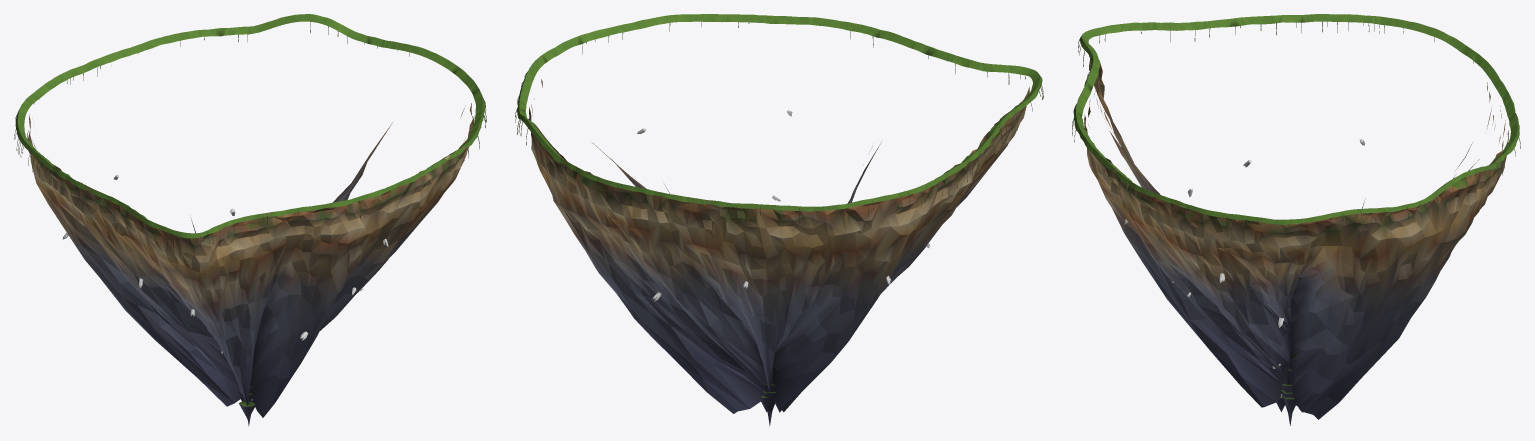
The model's file is IslandRock.glb.
3 views of the same model, side by side, from view 1: azimuth 30°, elevation 25°; view 2: azimuth 150°, elevation 25°; view 3: azimuth 270°, elevation 25° (orthographic). The views are drawn at different scales.
Visible parts, largest first — view 1: Rock, RockVines; view 2: Rock, RockVines; view 3: Rock, RockVines.
Boxes of the visible parts, <box> form: Rock: <box>15,14,485,426</box>; RockVines: <box>14,22,486,247</box>; Rock: <box>517,14,1042,426</box>; RockVines: <box>515,22,1043,224</box>; Rock: <box>1073,14,1519,425</box>; RockVines: <box>1072,21,1520,236</box>.
Bounding box in the file's own units: 285 × 209 × 260.
